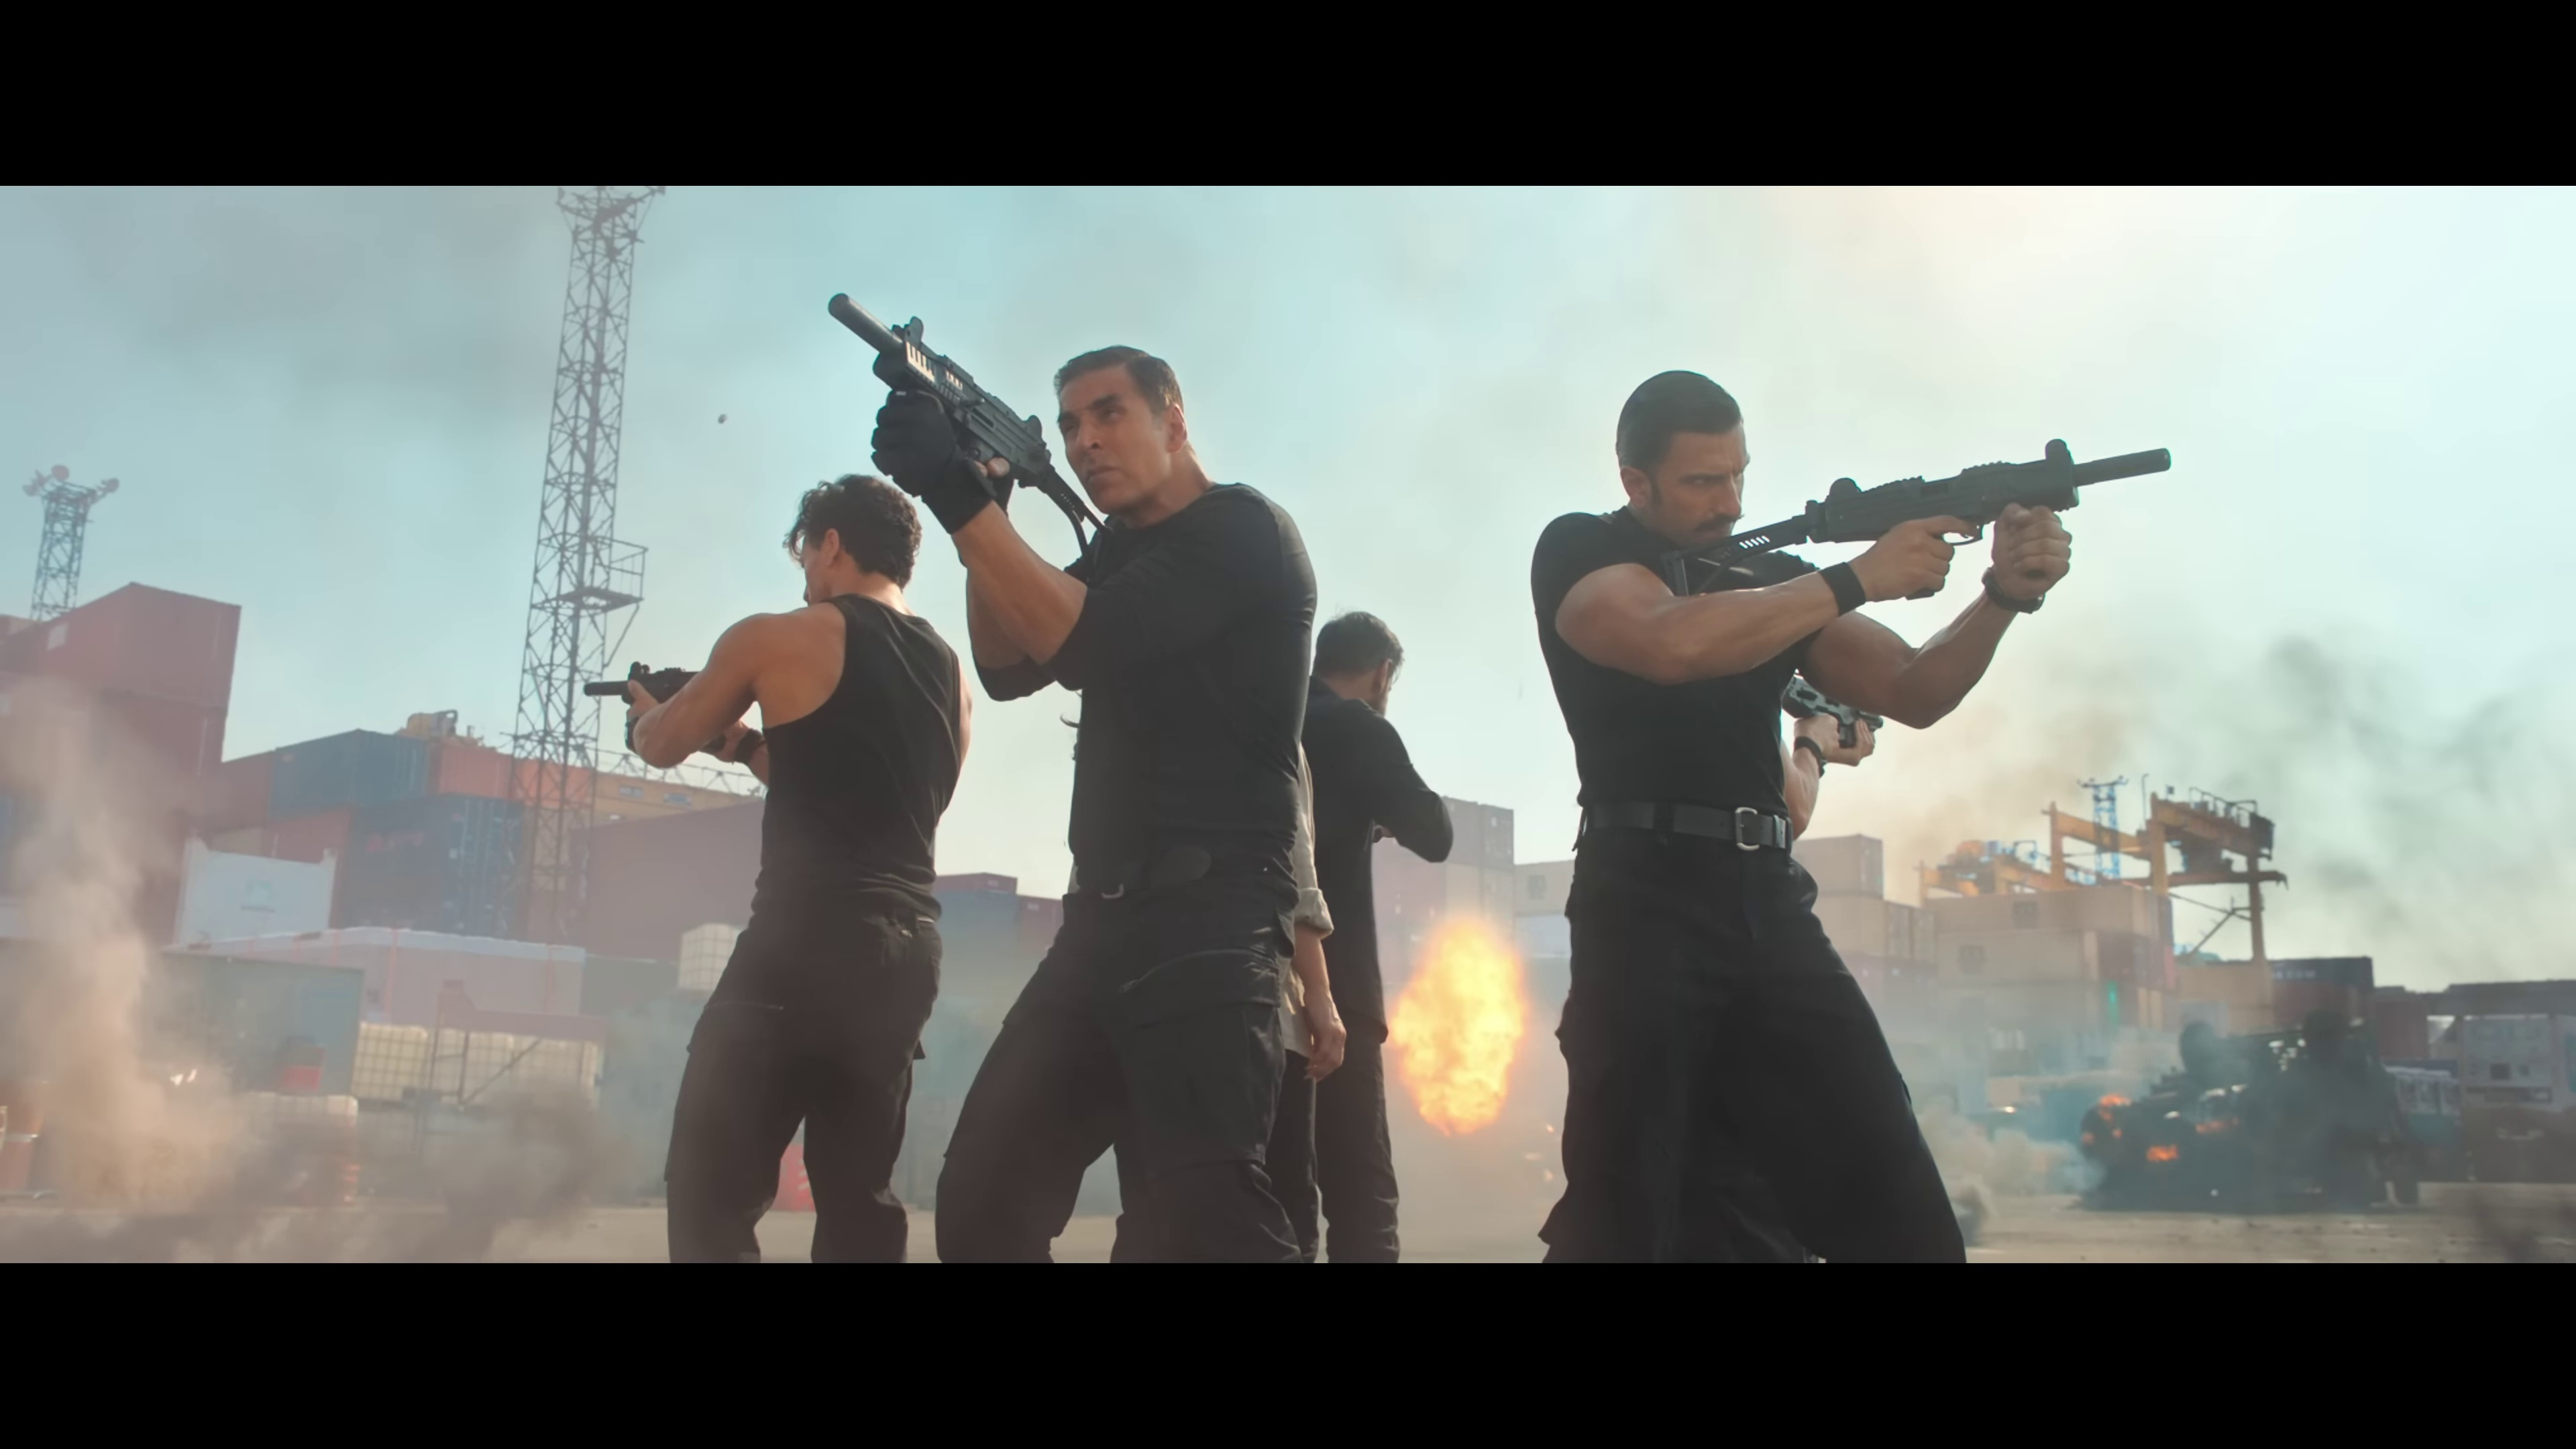gun: (1654, 428, 2171, 610), (819, 287, 1120, 577), (582, 660, 740, 754), (1782, 662, 1890, 757)
p_w_gun: (1513, 356, 2171, 1261), (814, 285, 1330, 1261), (580, 476, 973, 1265), (1769, 662, 1890, 847)
p_wo_gun_not_carrying_normal_pose: (1283, 603, 1458, 1261)
